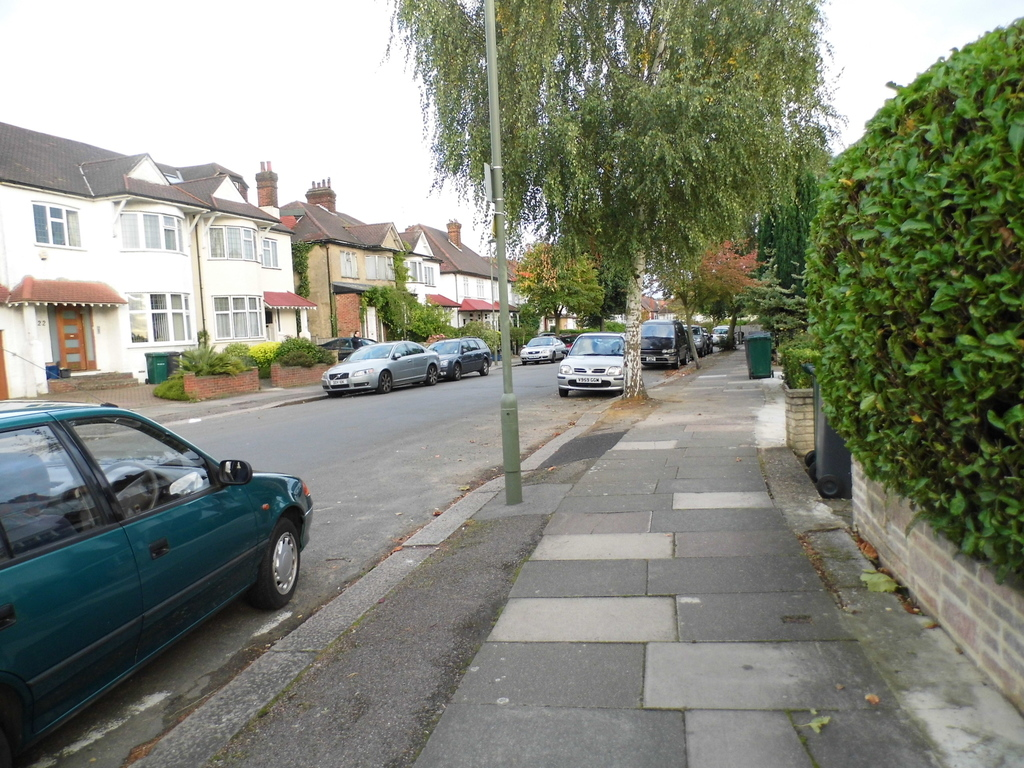mobil: (1, 395, 312, 751), (323, 343, 444, 393), (556, 324, 623, 400), (516, 333, 565, 363)
